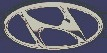Hyundai: (1, 1, 105, 53)
